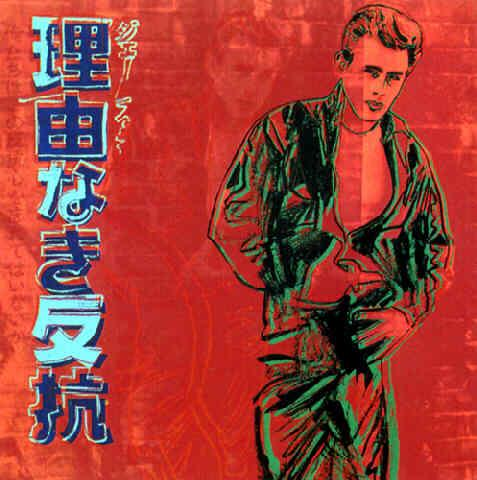person: (211, 6, 455, 480)
